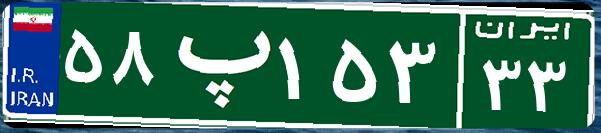1: (273, 28, 330, 110)
3: (385, 28, 445, 110), (475, 38, 525, 113), (525, 38, 570, 115)
5: (330, 28, 385, 110), (57, 26, 110, 107)
8: (110, 28, 158, 105)
پ: (158, 15, 273, 115)
